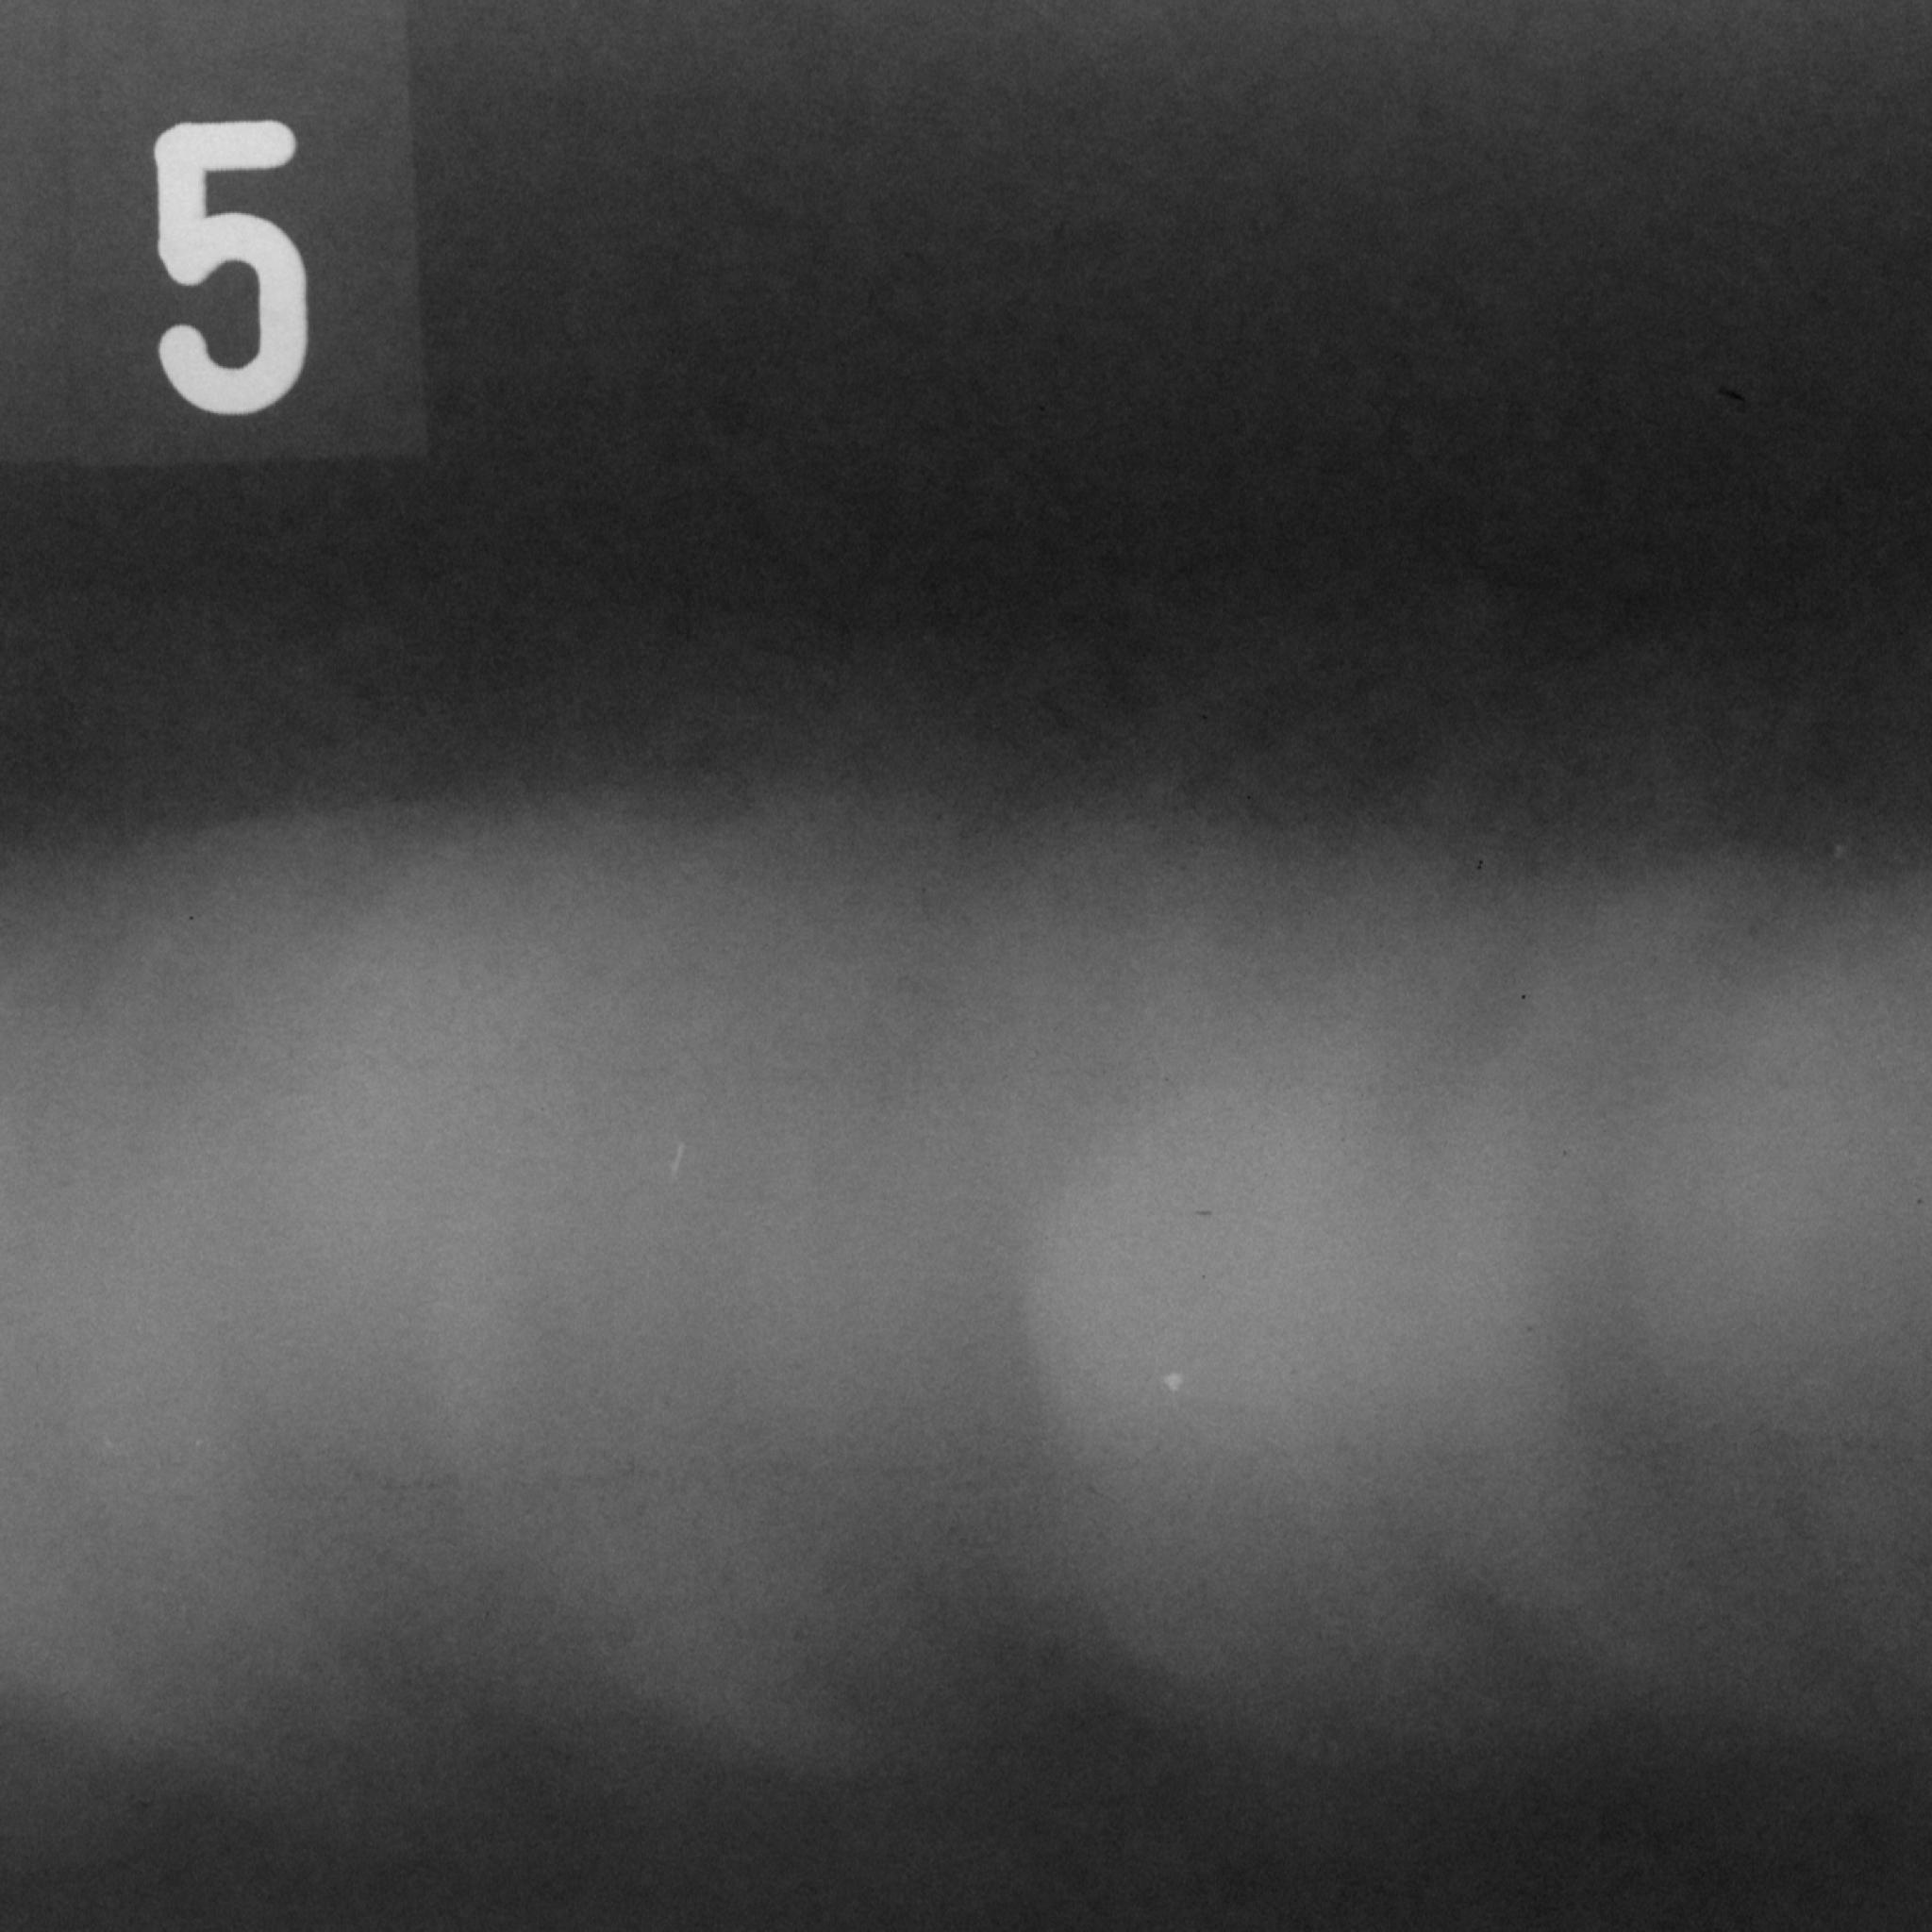FF: (0, 979, 1932, 1547)
